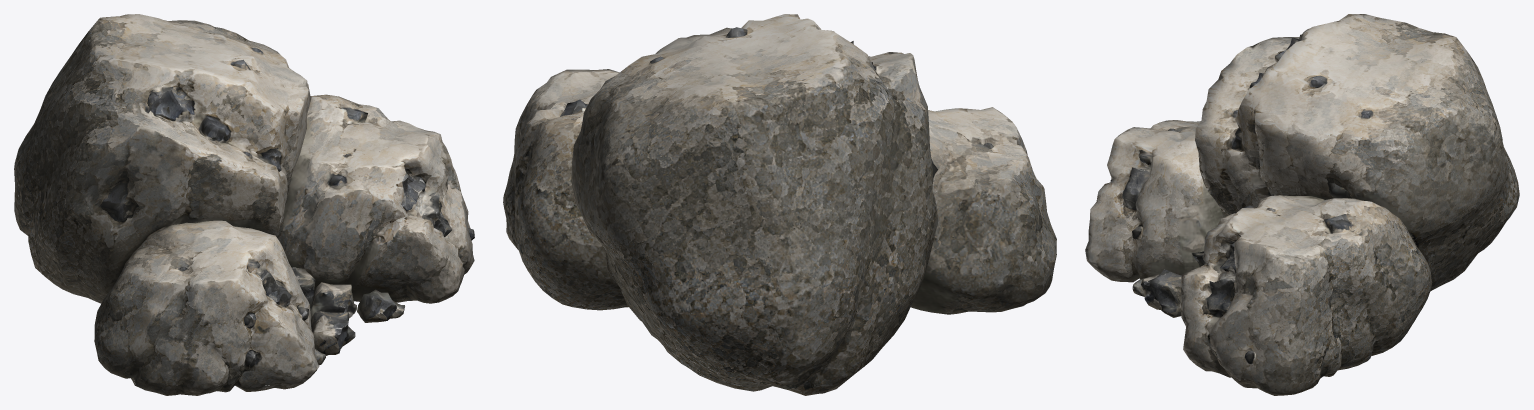
File: dungeon_flint_boulders.glb
3 views of the same model, side by side, from view 1: azimuth 30°, elevation 25°; view 2: azimuth 150°, elevation 25°; view 3: azimuth 270°, elevation 25° (orthographic). The views are drawn at different scales.
Parts seen in each view (by area): view 1: tripo_8196407f_68e5_410f_ad07_054d4359355b; view 2: tripo_8196407f_68e5_410f_ad07_054d4359355b; view 3: tripo_8196407f_68e5_410f_ad07_054d4359355b.
Boxes of the visible parts, x1=… form: tripo_8196407f_68e5_410f_ad07_054d4359355b: x1=14, y1=14, x2=474, y2=395; tripo_8196407f_68e5_410f_ad07_054d4359355b: x1=503, y1=14, x2=1056, y2=395; tripo_8196407f_68e5_410f_ad07_054d4359355b: x1=1085, y1=14, x2=1519, y2=395.
Size of the model in its own units: 0.9995 by 0.5923 by 0.9565.
Materials: 1 (1 with a texture image).
